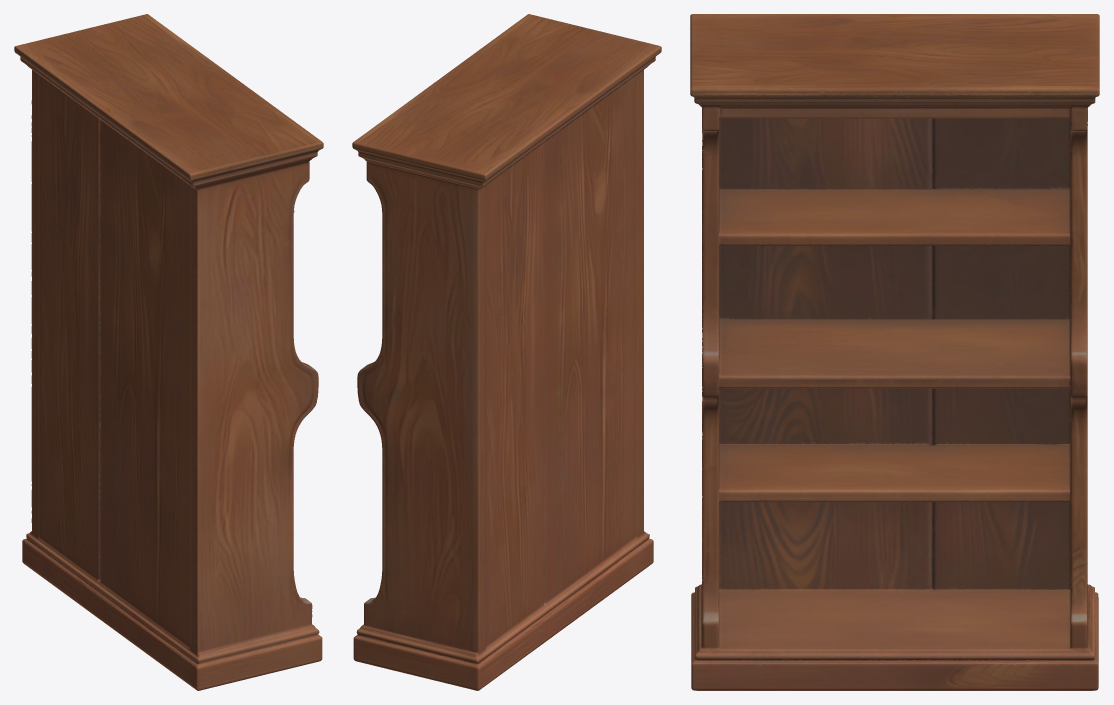
File: detailed_realistic_model_antiquebookshelf_19.glb
The picture shows the model from 3 angles, left to right: view 1: azimuth 30°, elevation 25°; view 2: azimuth 150°, elevation 25°; view 3: azimuth 270°, elevation 25°; orthographic projection. The views are drawn at different scales.
Visible parts, largest first — view 1: tripo_node_444e3b50-c27b-4ada-b203-f1532d71f96b; view 2: tripo_node_444e3b50-c27b-4ada-b203-f1532d71f96b; view 3: tripo_node_444e3b50-c27b-4ada-b203-f1532d71f96b.
Part boxes in pixels (x1,y1,x2,y2): tripo_node_444e3b50-c27b-4ada-b203-f1532d71f96b: (14,14,323,690); tripo_node_444e3b50-c27b-4ada-b203-f1532d71f96b: (352,14,661,690); tripo_node_444e3b50-c27b-4ada-b203-f1532d71f96b: (690,14,1099,690).
Size of the model in its own units: 0.2694 by 1 by 0.6131.
1 material, 1 textured.
